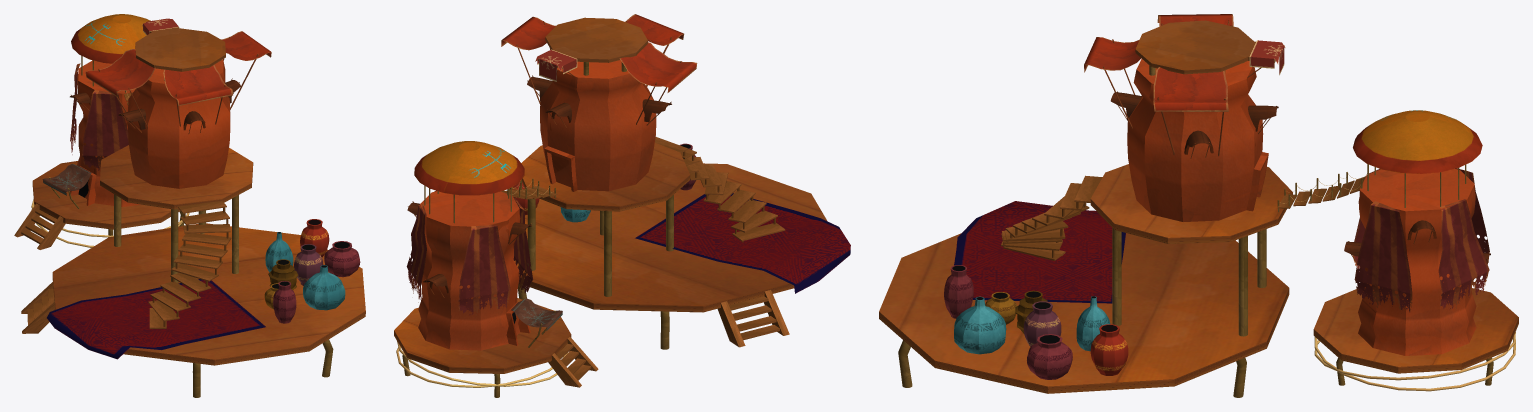
File: maisoncomposé.fbx
3 renders of one model, left to right at view 1: azimuth 30°, elevation 25°; view 2: azimuth 150°, elevation 25°; view 3: azimuth 270°, elevation 25°, orthographic. The views are drawn at different scales.
Parts seen in each view (by area): view 1: polySurface213, pPlane35, pCylinder137, pCylinder127, polySurface263, polySurface225, polySurface264, polySurface224, pPipe69, pCylinder119, pPlane32, pPlane33 (+15 smaller); view 2: polySurface213, pCylinder137, pCylinder119, pPlane35, pCylinder127, polySurface225, polySurface224, polySurface264, polySurface263, pPipe72, polySurface227, pPlane33 (+9 smaller); view 3: polySurface213, pCylinder137, pCylinder119, pPlane35, pCylinder127, polySurface225, polySurface224, polySurface264, pPipe70, pPipe71, polySurface263, pPlane34 (+14 smaller).
Part boxes in pixels (x1,y1,x2,y2): polySurface213: (52,223,365,397); pPlane35: (47,279,265,359); pCylinder137: (128,59,230,188); pCylinder127: (14,161,189,249); polySurface263: (148,201,231,329); polySurface225: (100,145,253,209); polySurface264: (135,18,225,80); polySurface224: (71,14,150,63); pPipe69: (82,90,128,170); pCylinder119: (70,60,140,206); pPlane32: (163,65,232,126); pPlane33: (85,49,155,127); polySurface213: (514,163,827,349); pCylinder137: (540,60,656,191); pCylinder119: (418,191,530,350); pPlane35: (635,193,850,293); pCylinder127: (394,298,598,397); polySurface225: (521,142,690,211); polySurface224: (414,141,524,195); polySurface264: (535,17,647,81); polySurface263: (655,137,785,242); pPipe72: (458,225,510,315); polySurface227: (717,290,789,347); pPlane33: (619,42,697,124); polySurface213: (879,233,1289,397); pCylinder137: (1127,59,1268,221); pCylinder119: (1358,169,1476,355); pPlane35: (954,201,1125,303); pCylinder127: (1313,288,1518,391); polySurface225: (1090,164,1292,243); polySurface224: (1353,110,1482,173); polySurface264: (1135,20,1285,77); pPipe70: (1354,201,1412,313); pPipe71: (1438,199,1489,309); polySurface263: (1001,175,1102,260); pPlane34: (1153,67,1228,156).
Bounding box in the file's own units: 35.54 × 29.45 × 53.12.
